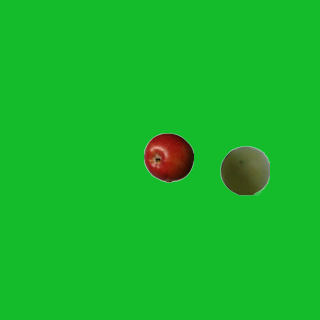Apple Braeburn: (143, 132, 193, 182)
Grape White 4: (219, 145, 269, 195)
